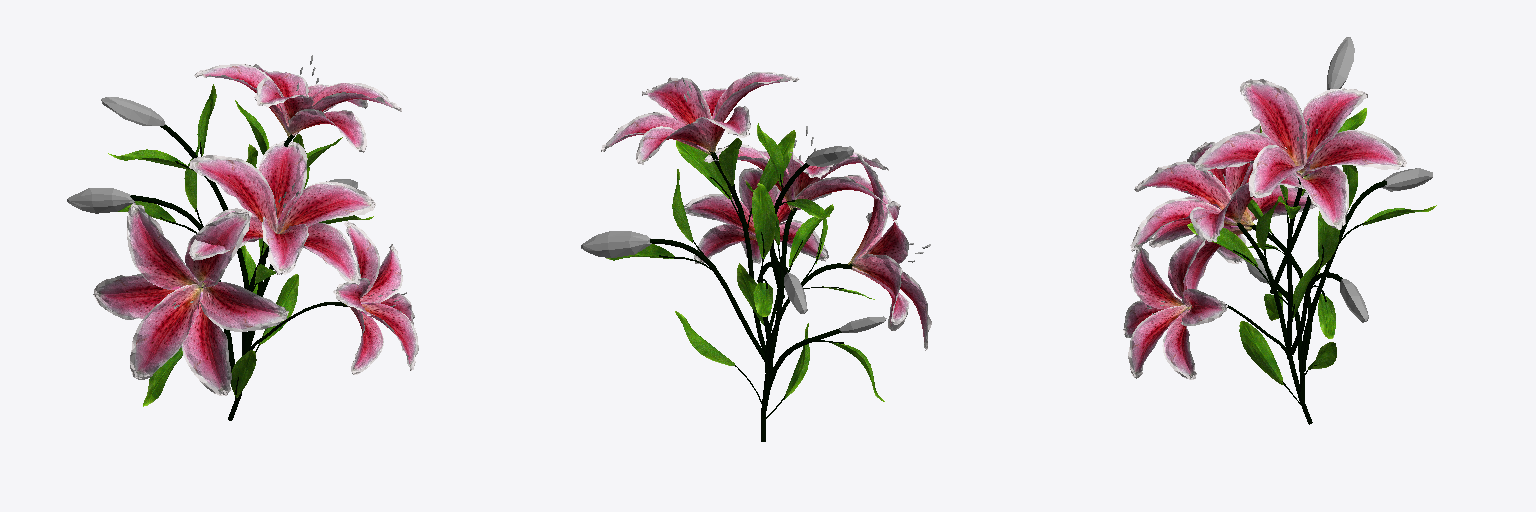
3 views of the same model, side by side, from view 1: azimuth 30°, elevation 25°; view 2: azimuth 150°, elevation 25°; view 3: azimuth 270°, elevation 25° (orthographic).
Parts seen in each view (by area): view 1: Plane.066_Plane.076; view 2: Plane.066_Plane.076; view 3: Plane.066_Plane.076.
Part boxes in pixels (x1,y1,x2,y2): Plane.066_Plane.076: (67, 55, 418, 420); Plane.066_Plane.076: (581, 72, 931, 441); Plane.066_Plane.076: (1123, 37, 1436, 424).
Bounding box in the file's own units: 11.02 × 12.63 × 10.35.
6 materials, 3 textured.